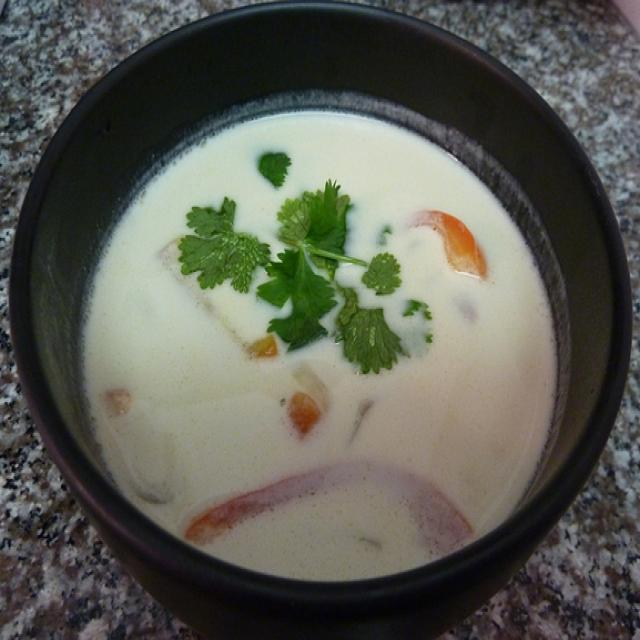汤锅炖物: (31, 41, 601, 602)
